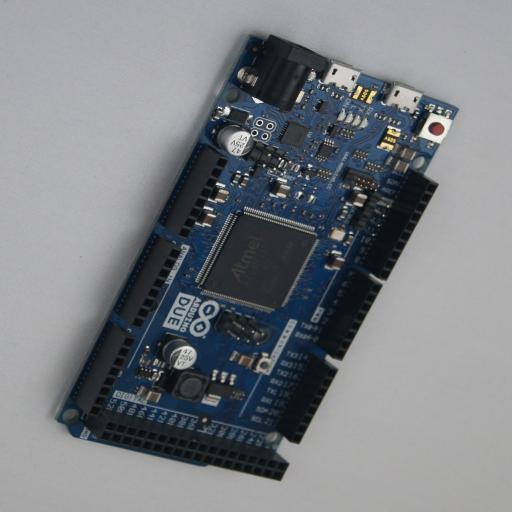Arduino Due: (54, 33, 459, 481)
